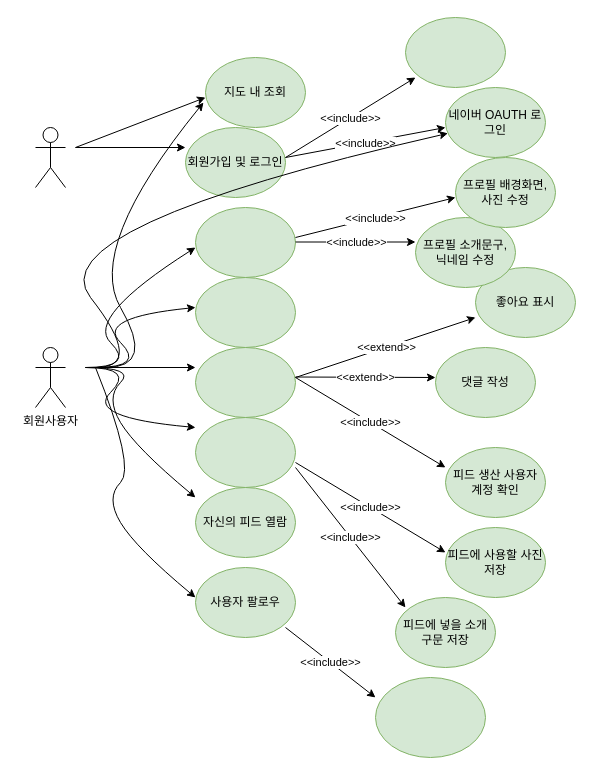
This 593x775 diagram has some shape labels left out. The box of each missing label's shape, as (x1, y1, x2, y2) in pixels:
네이버 계정 연동 회원가입: (404, 16, 506, 88)
다른 사용자 피드 열람: (194, 346, 296, 418)
마커 클릭: (194, 276, 296, 348)
비회원사용자: (34, 126, 66, 188)
팔로우 중인 사용자 계정 전체 조회: (374, 676, 486, 758)
프로필 수정: (194, 206, 296, 278)
피드 작성: (194, 416, 296, 488)
